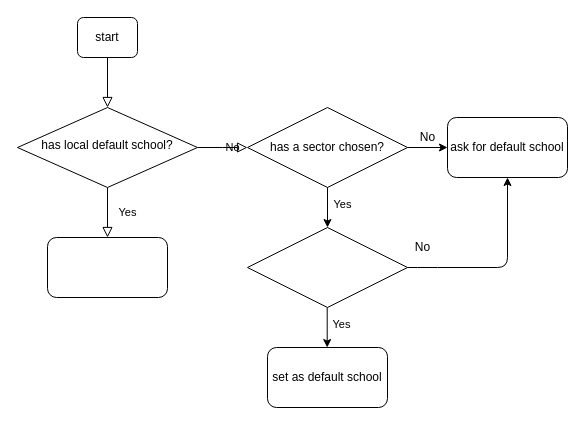
Image size: 585x425. Some labels were removed from this diagram. The centre of each missing label's shape, as x and y in pixels:
"display default school on Admin" belongs at point (107, 267).
"has a school chosen?" belongs at point (327, 267).
